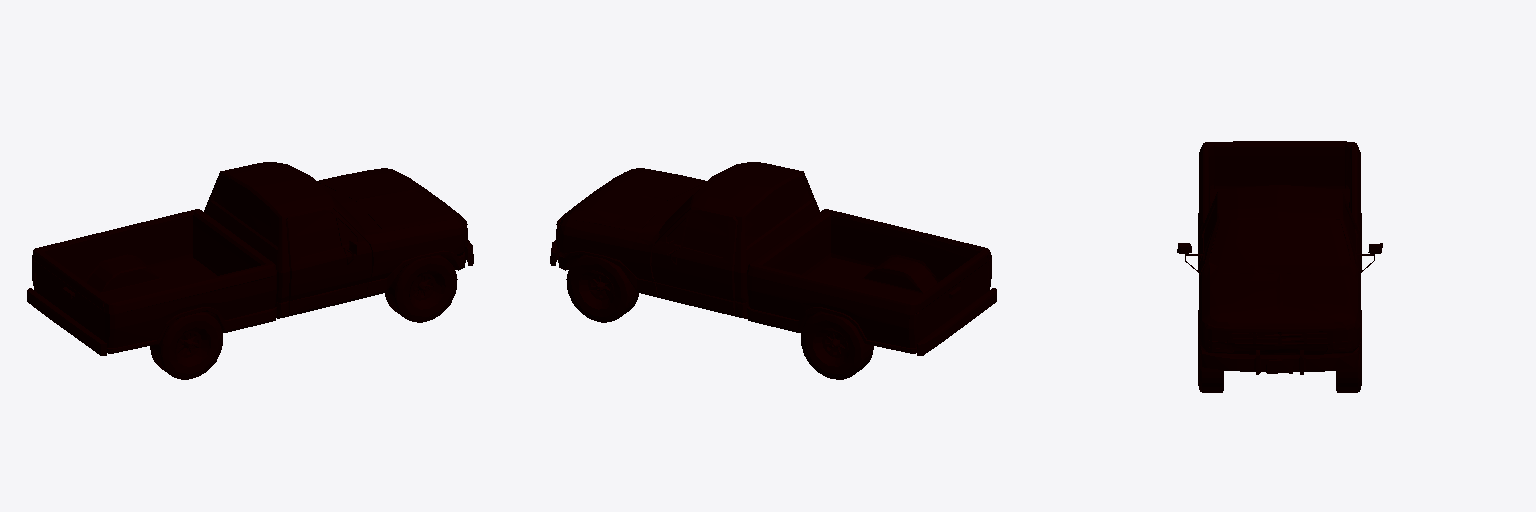
File: carRed.obj
The picture shows the model from 3 angles: view 1: azimuth 30°, elevation 25°; view 2: azimuth 150°, elevation 25°; view 3: azimuth 270°, elevation 25°; orthographic projection.
Visible parts, largest first — view 1: Group6313.002; view 2: Group6313.002; view 3: Group6313.002.
Part boxes in pixels (x1,y1,x2,y2): Group6313.002: (27, 162, 473, 379); Group6313.002: (550, 162, 996, 379); Group6313.002: (1177, 141, 1382, 392).
Bounding box in the file's own units: 6.66 × 2.28 × 3.06.